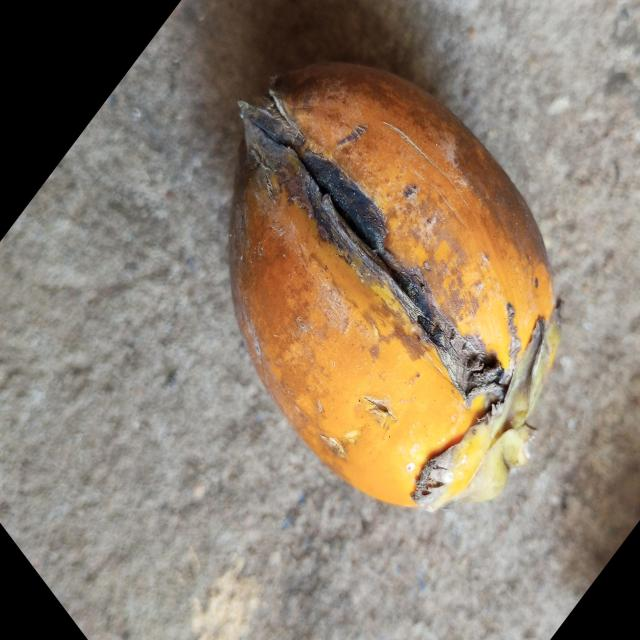damaged: (226, 62, 560, 514)
